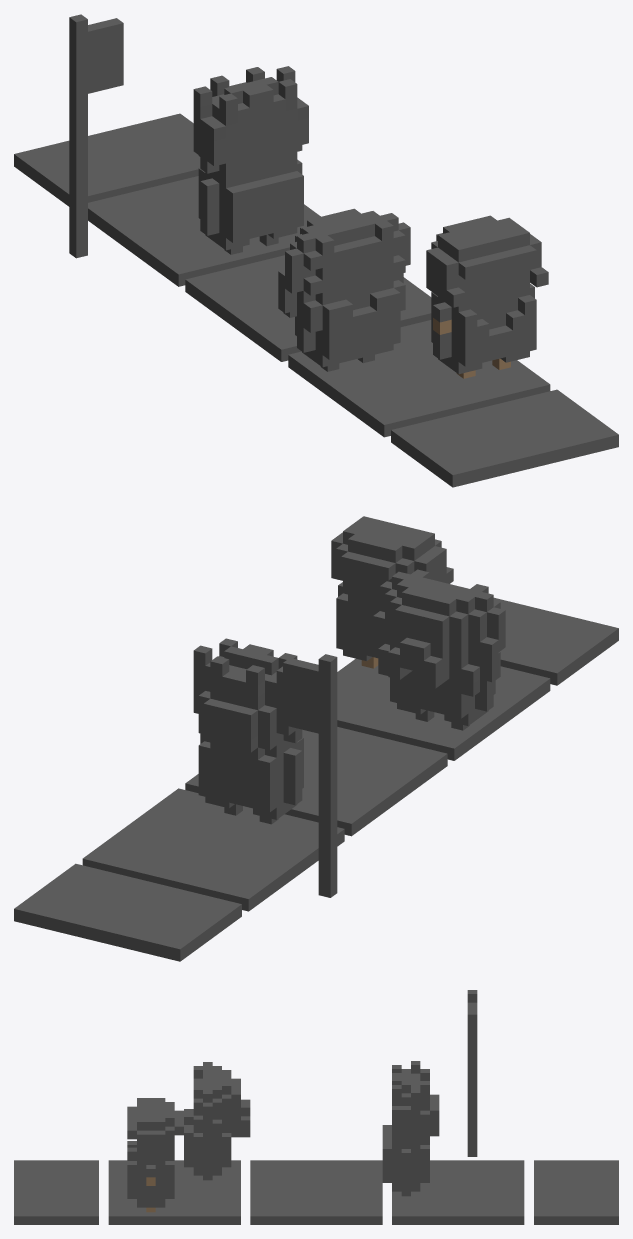
The model's file is scene_sidewalk.obj.
3 views of the same model, one above another, from view 1: azimuth 30°, elevation 25°; view 2: azimuth 150°, elevation 25°; view 3: azimuth 270°, elevation 25° (orthographic). The views are drawn at different scales.
Bounding box in the file's own units: 19 × 19 × 64.
